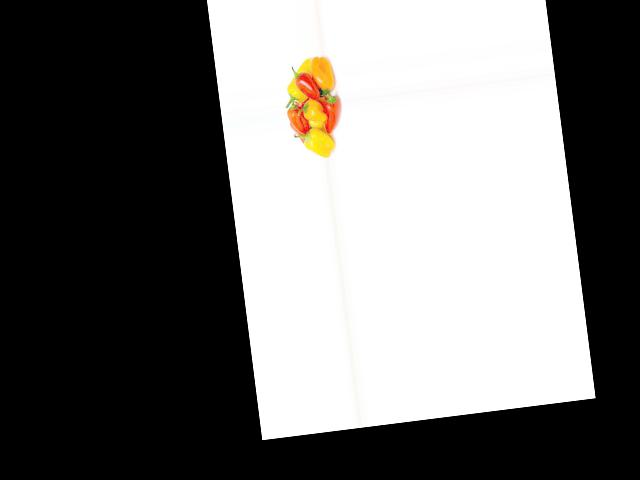bell_pepper: (281, 58, 317, 104)
